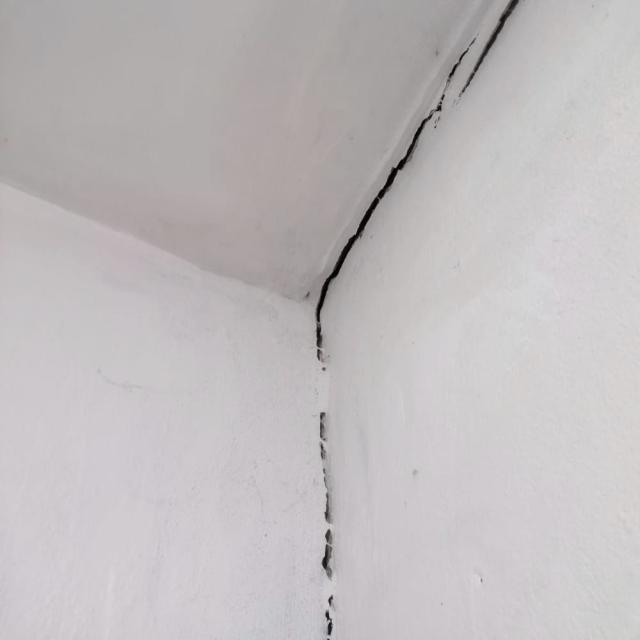Wall_Cracks: (274, 2, 545, 639)
